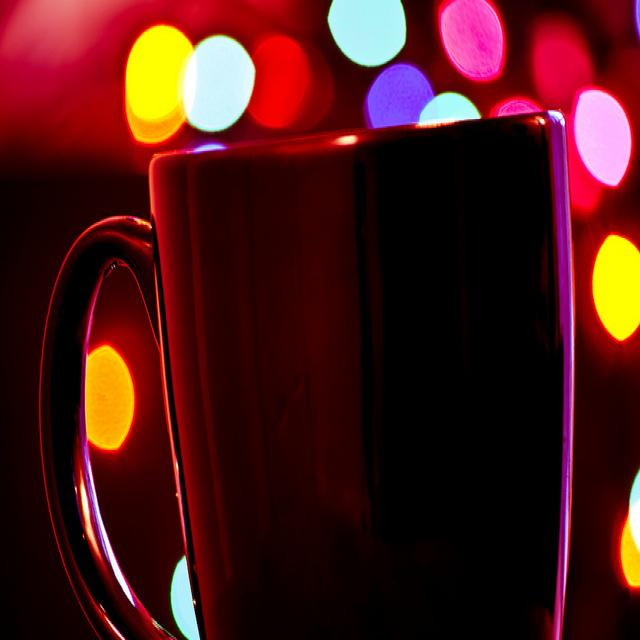Cup: (21, 87, 603, 640)
